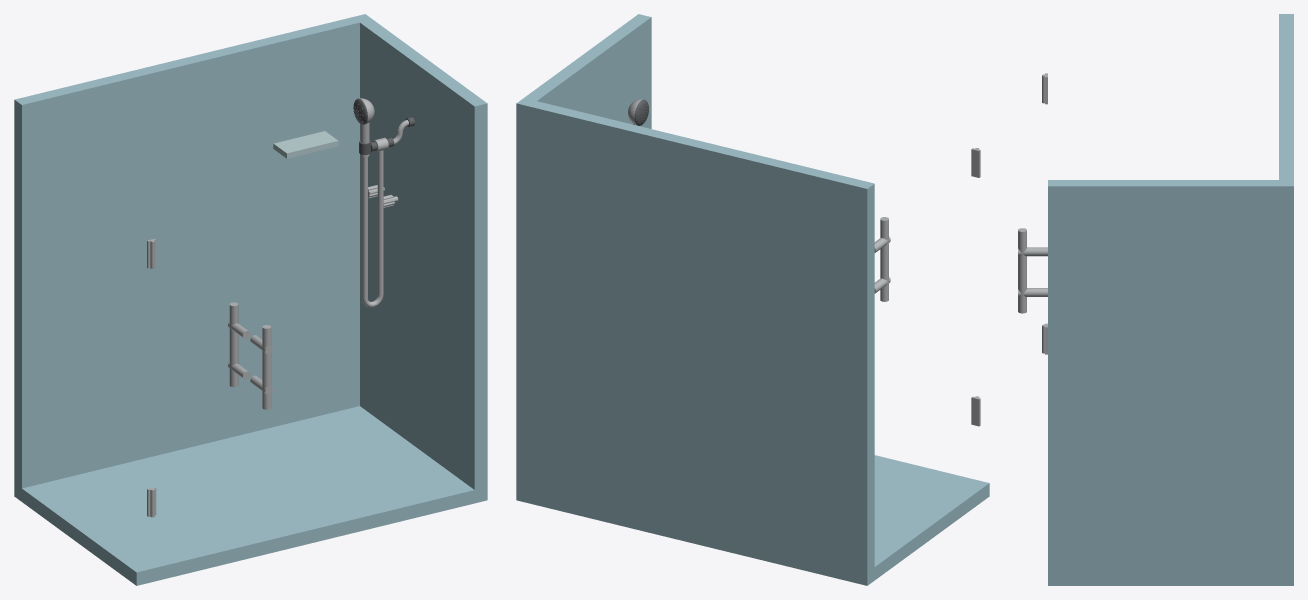
Rendered from Shower.glb.
3 views of the same model, side by side, from view 1: azimuth 30°, elevation 25°; view 2: azimuth 150°, elevation 25°; view 3: azimuth 270°, elevation 25° (orthographic).
Parts seen in each view (by area): view 1: Mesh_Mesh_head_geo.001_lambert2SG.001; view 2: Mesh_Mesh_head_geo.001_lambert2SG.001; view 3: Mesh_Mesh_head_geo.001_lambert2SG.001.
Part boxes in pixels (bbox=[...]): Mesh_Mesh_head_geo.001_lambert2SG.001: bbox=[14, 14, 487, 585]; Mesh_Mesh_head_geo.001_lambert2SG.001: bbox=[516, 14, 989, 585]; Mesh_Mesh_head_geo.001_lambert2SG.001: bbox=[1018, 14, 1293, 585].
Size of the model in its own units: 136 by 147 by 92.
